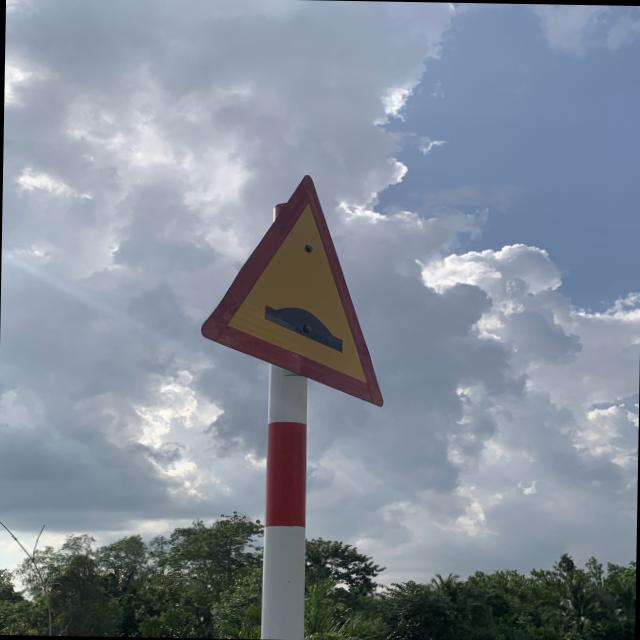Duong_Cong_Ben_Phai: (200, 170, 395, 408)
